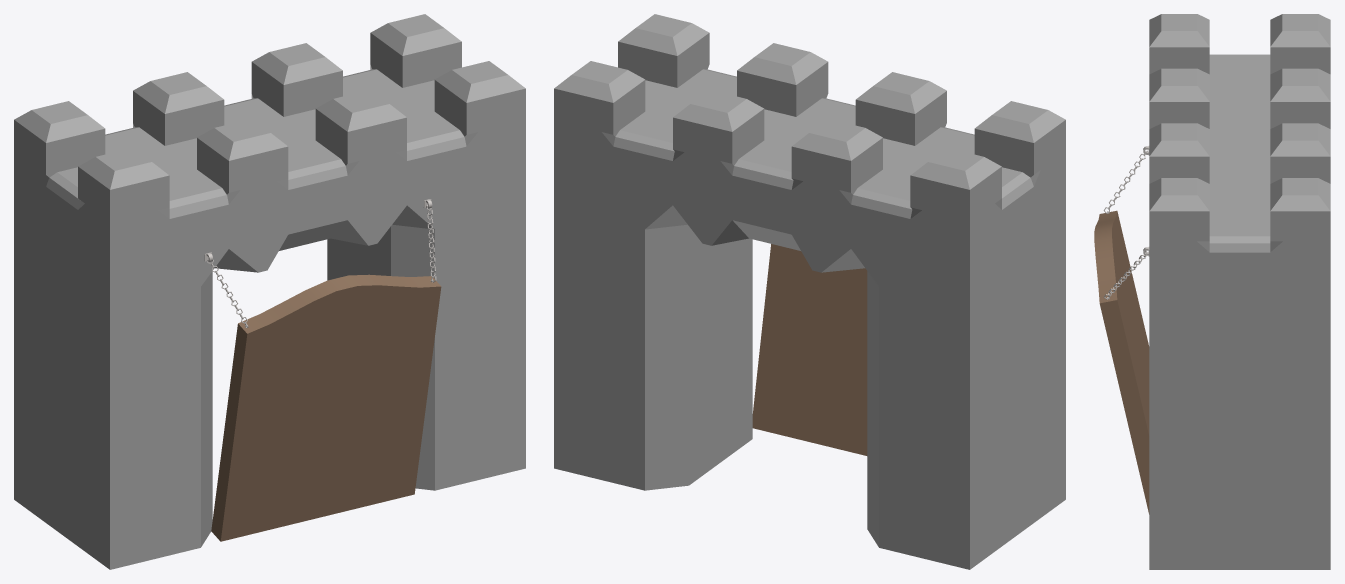
File: ditchGate.fbx
The picture shows the model from 3 angles, left to right: view 1: azimuth 30°, elevation 25°; view 2: azimuth 150°, elevation 25°; view 3: azimuth 270°, elevation 25°; orthographic projection. The views are drawn at different scales.
Parts seen in each view (by area): view 1: ditchGateWall, ditchGate; view 2: ditchGateWall, ditchGate; view 3: ditchGateWall, ditchGate.
Boxes of the visible parts, box(x1,y1,x2,y2) form: ditchGateWall: box(14, 14, 525, 569); ditchGate: box(211, 274, 441, 541); ditchGateWall: box(554, 14, 1065, 569); ditchGate: box(752, 244, 867, 455); ditchGateWall: box(1149, 14, 1330, 569); ditchGate: box(1094, 210, 1149, 514).
Bounding box in the file's own units: 150 × 135 × 78.21.
